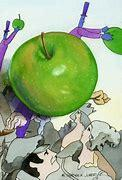apple: (11, 33, 104, 113)
